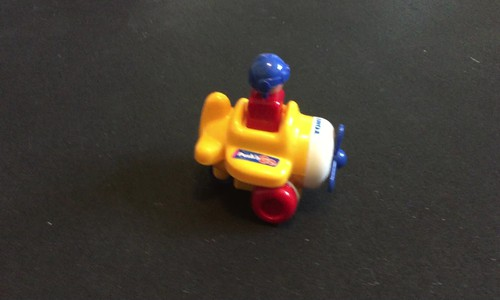toy: (195, 50, 349, 226)
